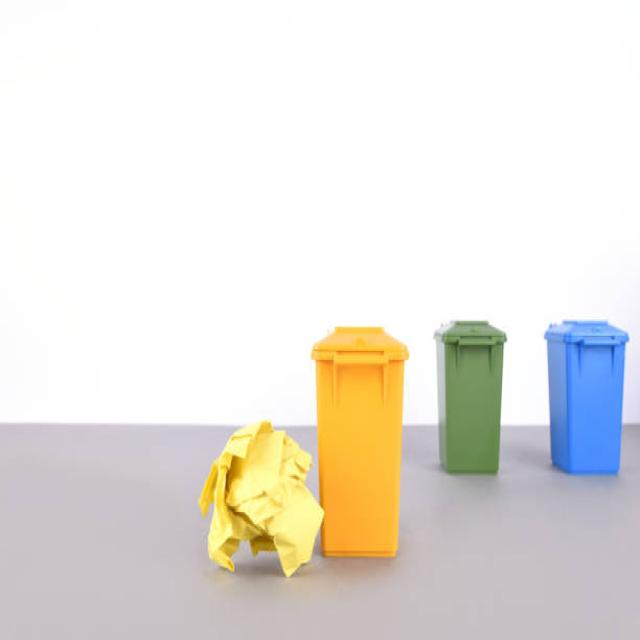paper: (203, 417, 327, 596)
